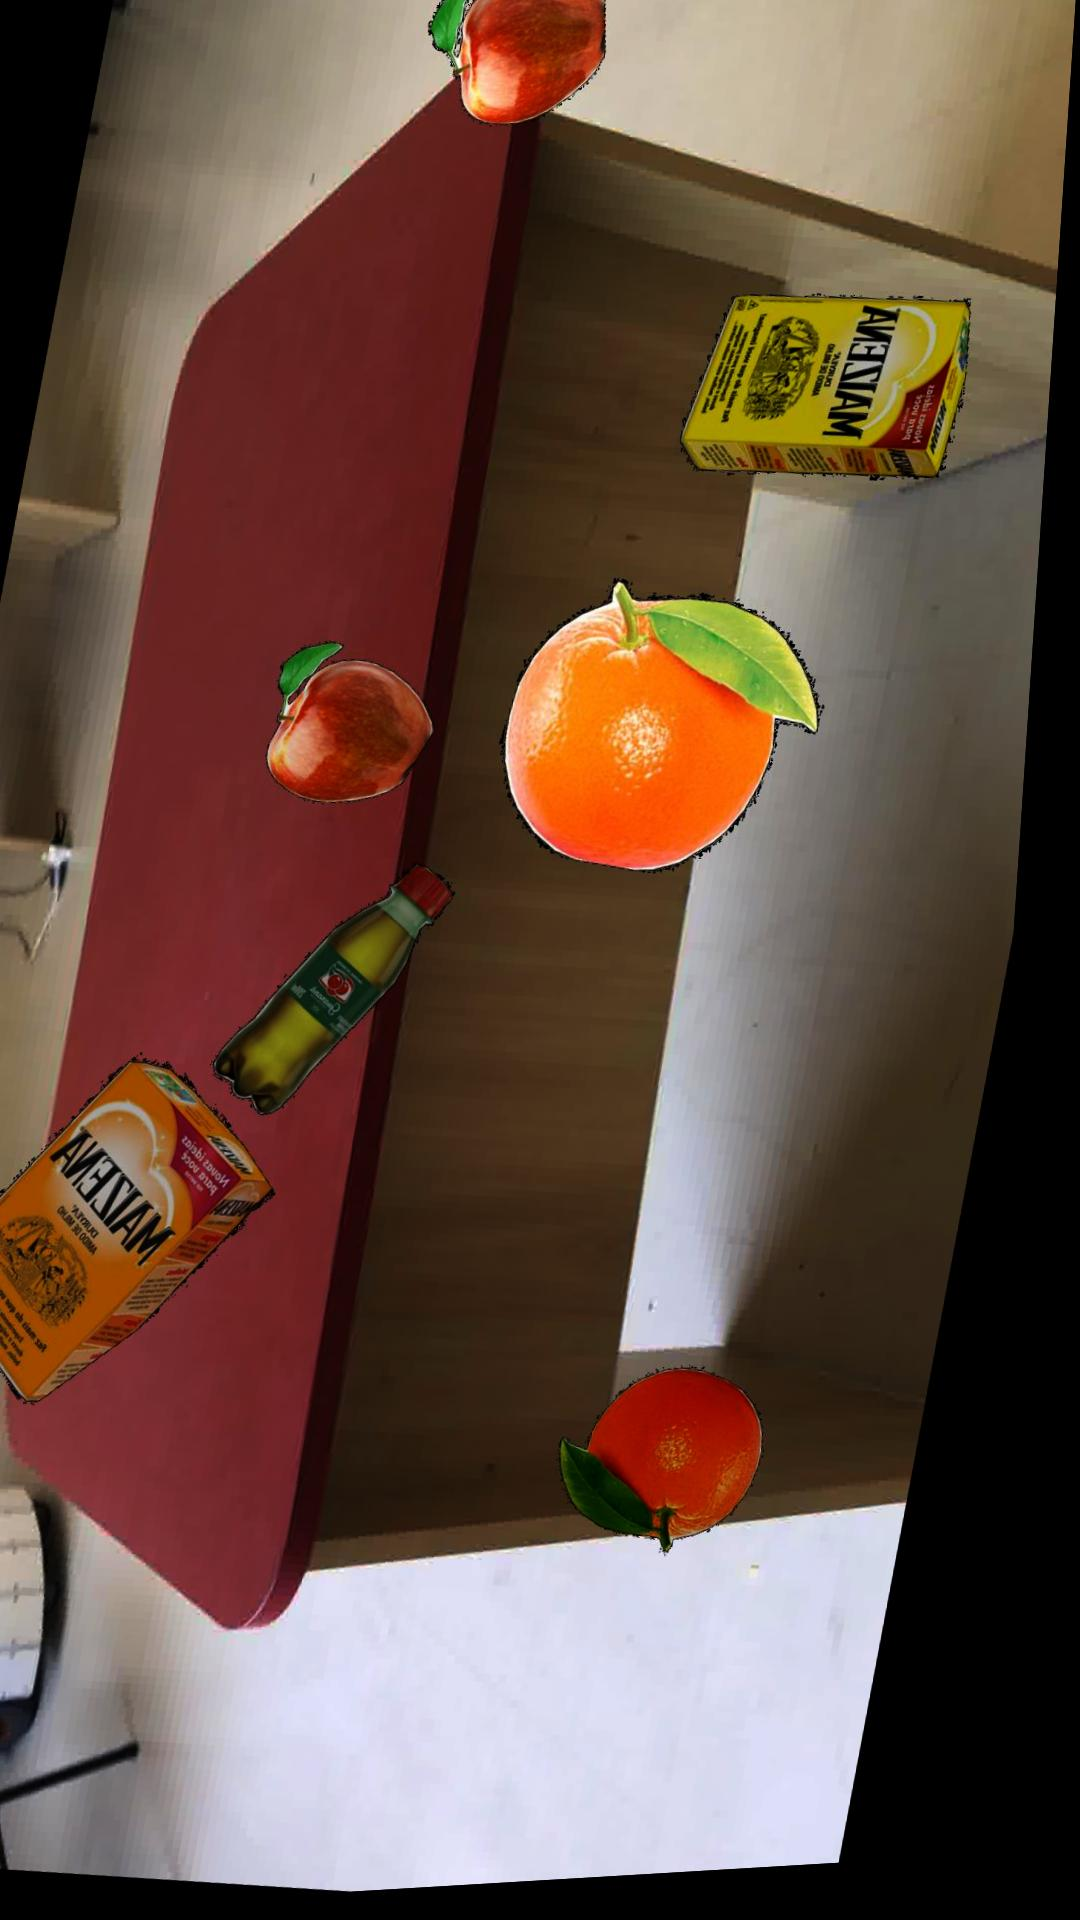apple: (277, 647, 444, 810), (430, 0, 608, 133)
guarana: (229, 870, 469, 1121)
orange: (512, 588, 832, 882), (580, 1378, 785, 1564)
